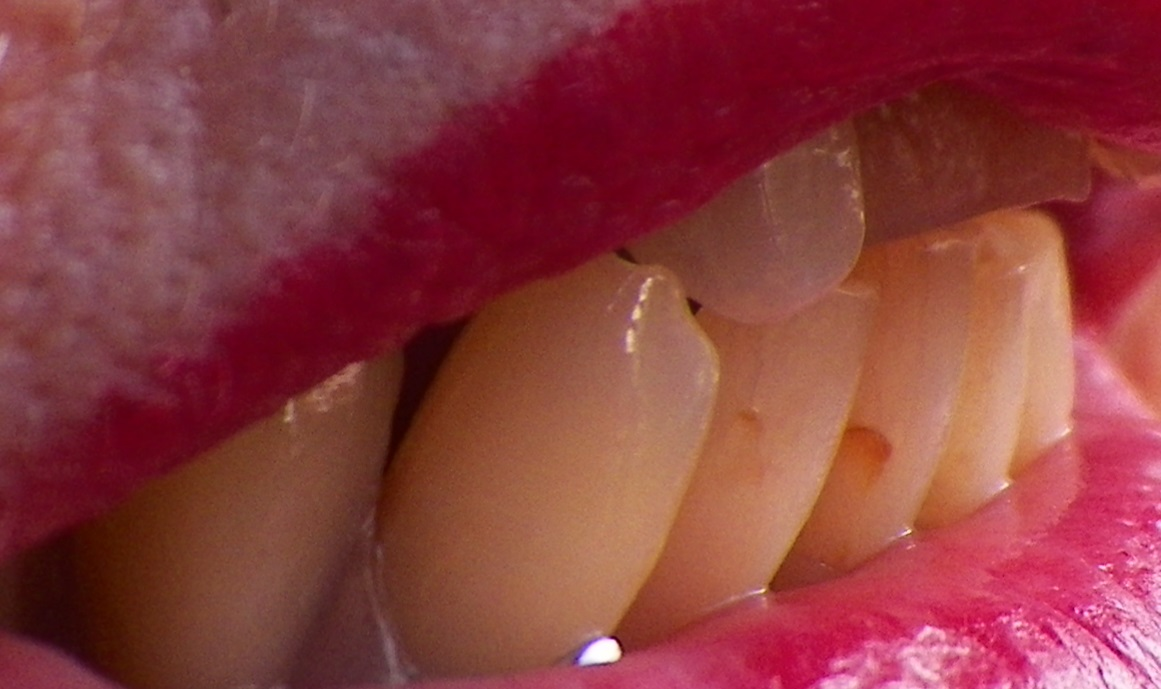boca: (78, 122, 1103, 683)
